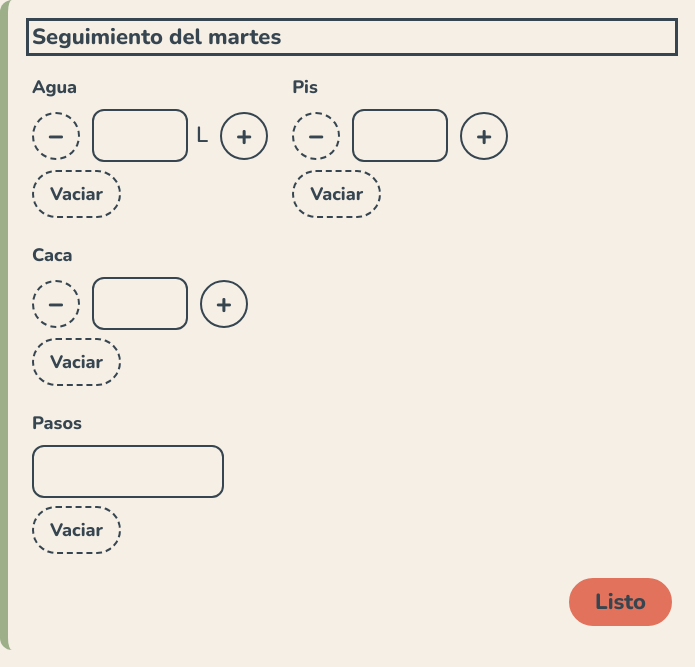
Scenario: TrackingPanel › pasos "8500" al salir del campo guarda 8500 y muestra "8.500"
Type "8500" into the field labelled "Pasos". click: (128, 472)
box: x1=32 y1=445 x2=224 y2=498
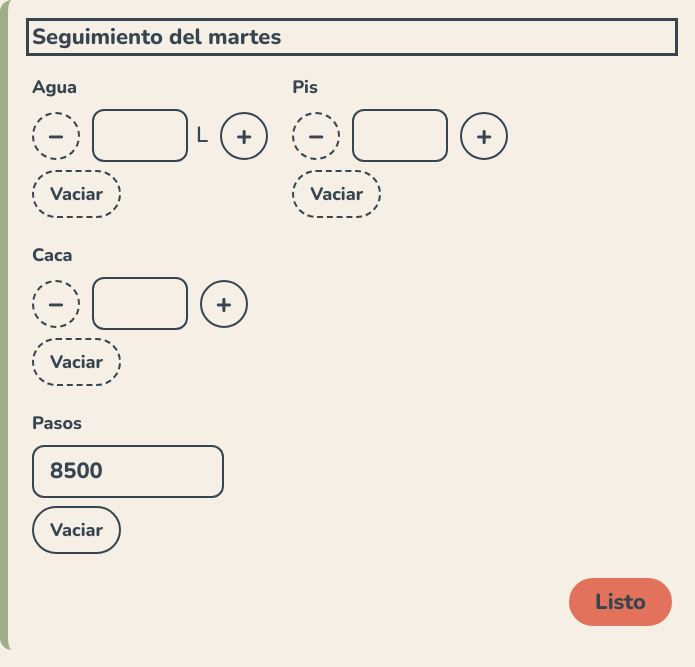
Leave the field labelled "Pasos", box x1=32 y1=445 x2=224 y2=498
Wait 600 ms
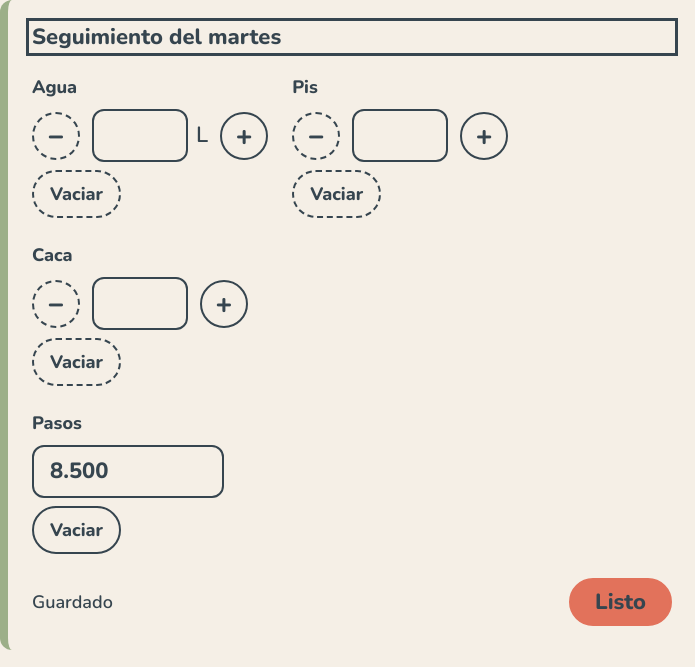
Result: the field labelled "Pasos" holds "8.500" at x1=32 y1=445 x2=224 y2=498
